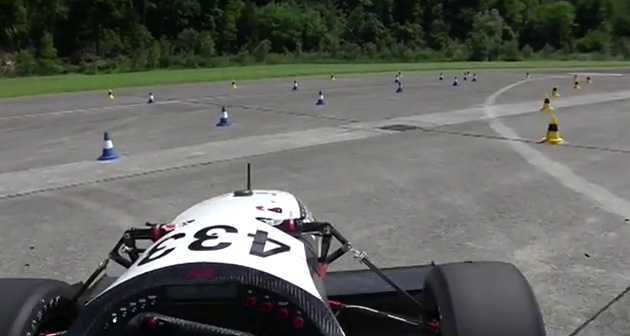Cone: (538, 111, 565, 146), (95, 130, 121, 160), (539, 92, 555, 114), (217, 106, 234, 126), (314, 89, 328, 105), (550, 83, 561, 98), (146, 90, 156, 104)
